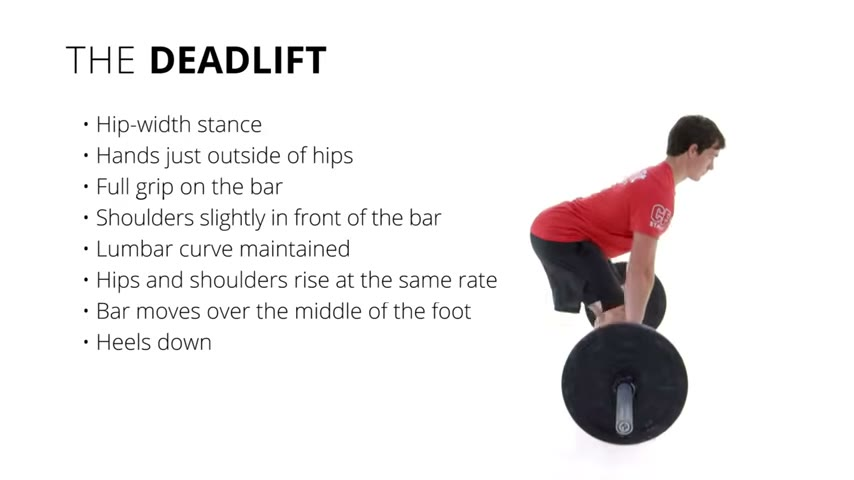barbell_plate_side: (652, 307, 691, 451), (560, 312, 593, 451)
